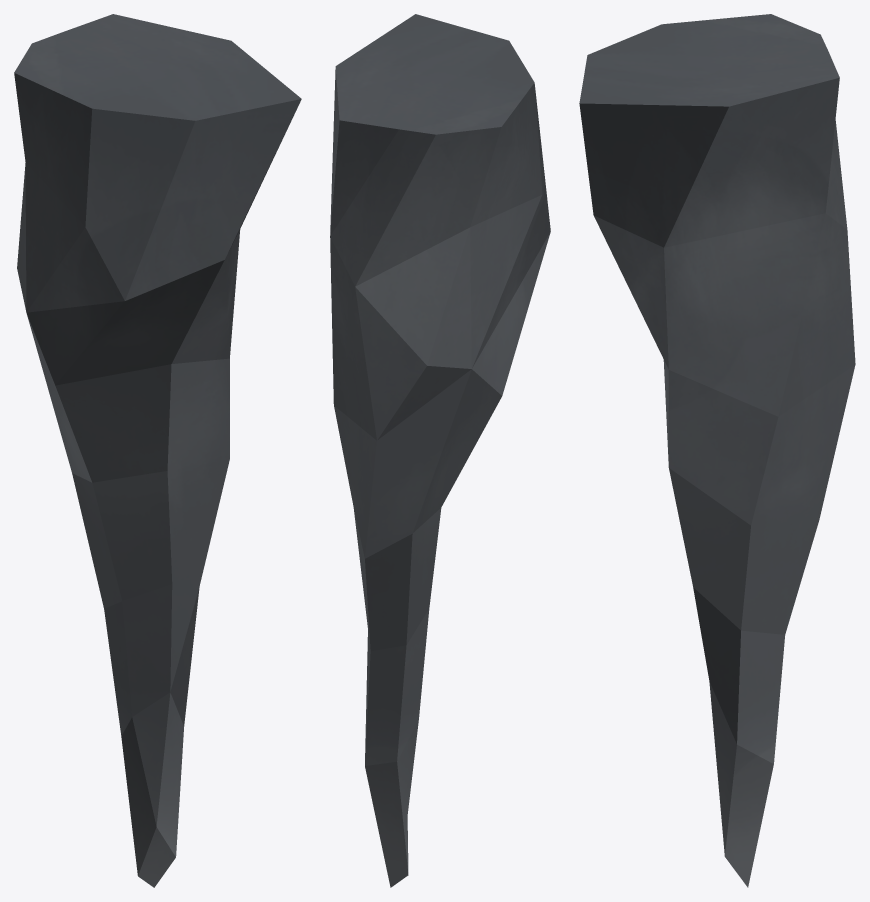
The model's file is Stalagtite_Tall.fbx.
3 views of the same model, side by side, from view 1: azimuth 30°, elevation 25°; view 2: azimuth 150°, elevation 25°; view 3: azimuth 270°, elevation 25° (orthographic). The views are drawn at different scales.
Visible parts, largest first — view 1: Stalagtite_Tall; view 2: Stalagtite_Tall; view 3: Stalagtite_Tall.
Part boxes in pixels (left/top/right/bottom): Stalagtite_Tall: left=14, top=14, right=301, bottom=887; Stalagtite_Tall: left=330, top=14, right=550, bottom=887; Stalagtite_Tall: left=579, top=14, right=855, bottom=887.
Size of the model in its own units: 54.13 by 221 by 68.15.
